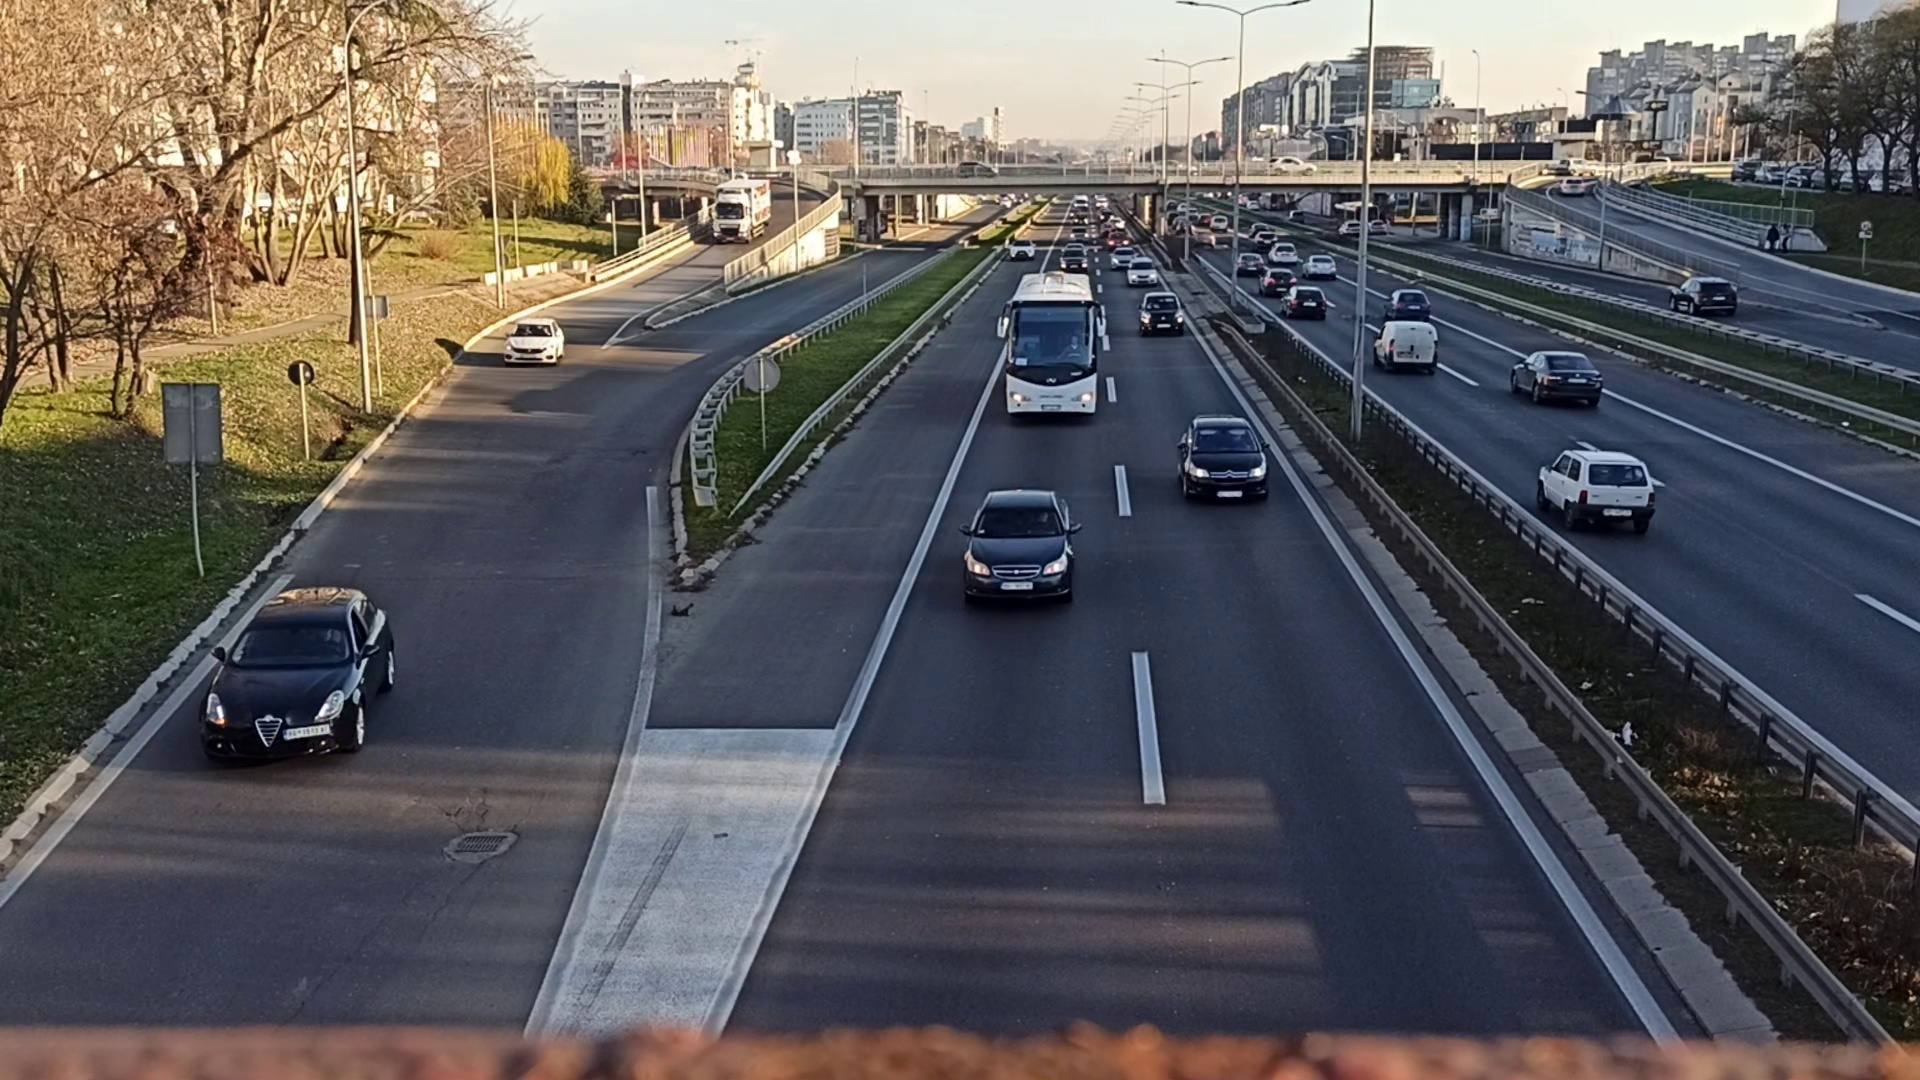bus: (1005, 276, 1097, 417)
car: (203, 582, 396, 753), (968, 487, 1072, 608), (1534, 451, 1655, 529), (1176, 415, 1270, 504), (1505, 344, 1596, 407), (502, 315, 564, 364), (1665, 277, 1737, 314), (1379, 286, 1431, 320), (1282, 286, 1325, 324), (1141, 295, 1180, 334), (1126, 260, 1159, 287)
truck: (713, 179, 771, 237)
van: (1374, 319, 1437, 376)
